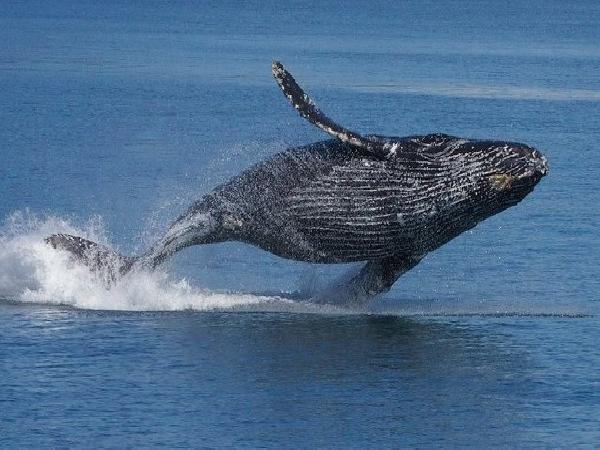humpback: (158, 140, 545, 263)
